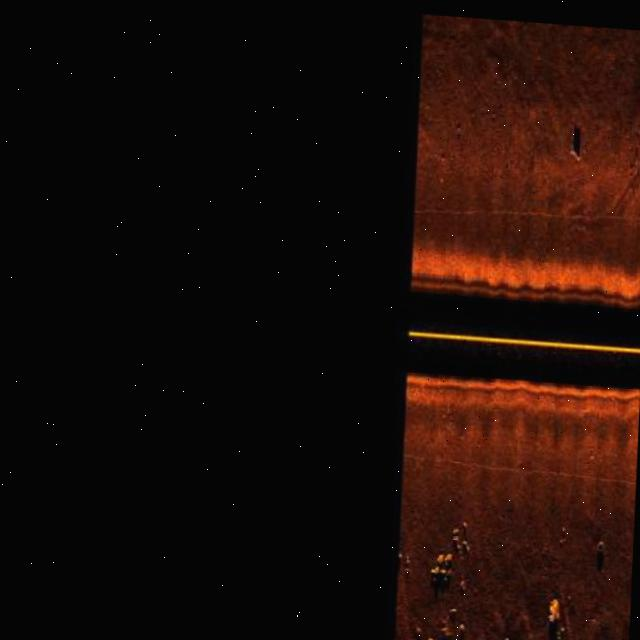mine: (566, 118, 584, 163)
